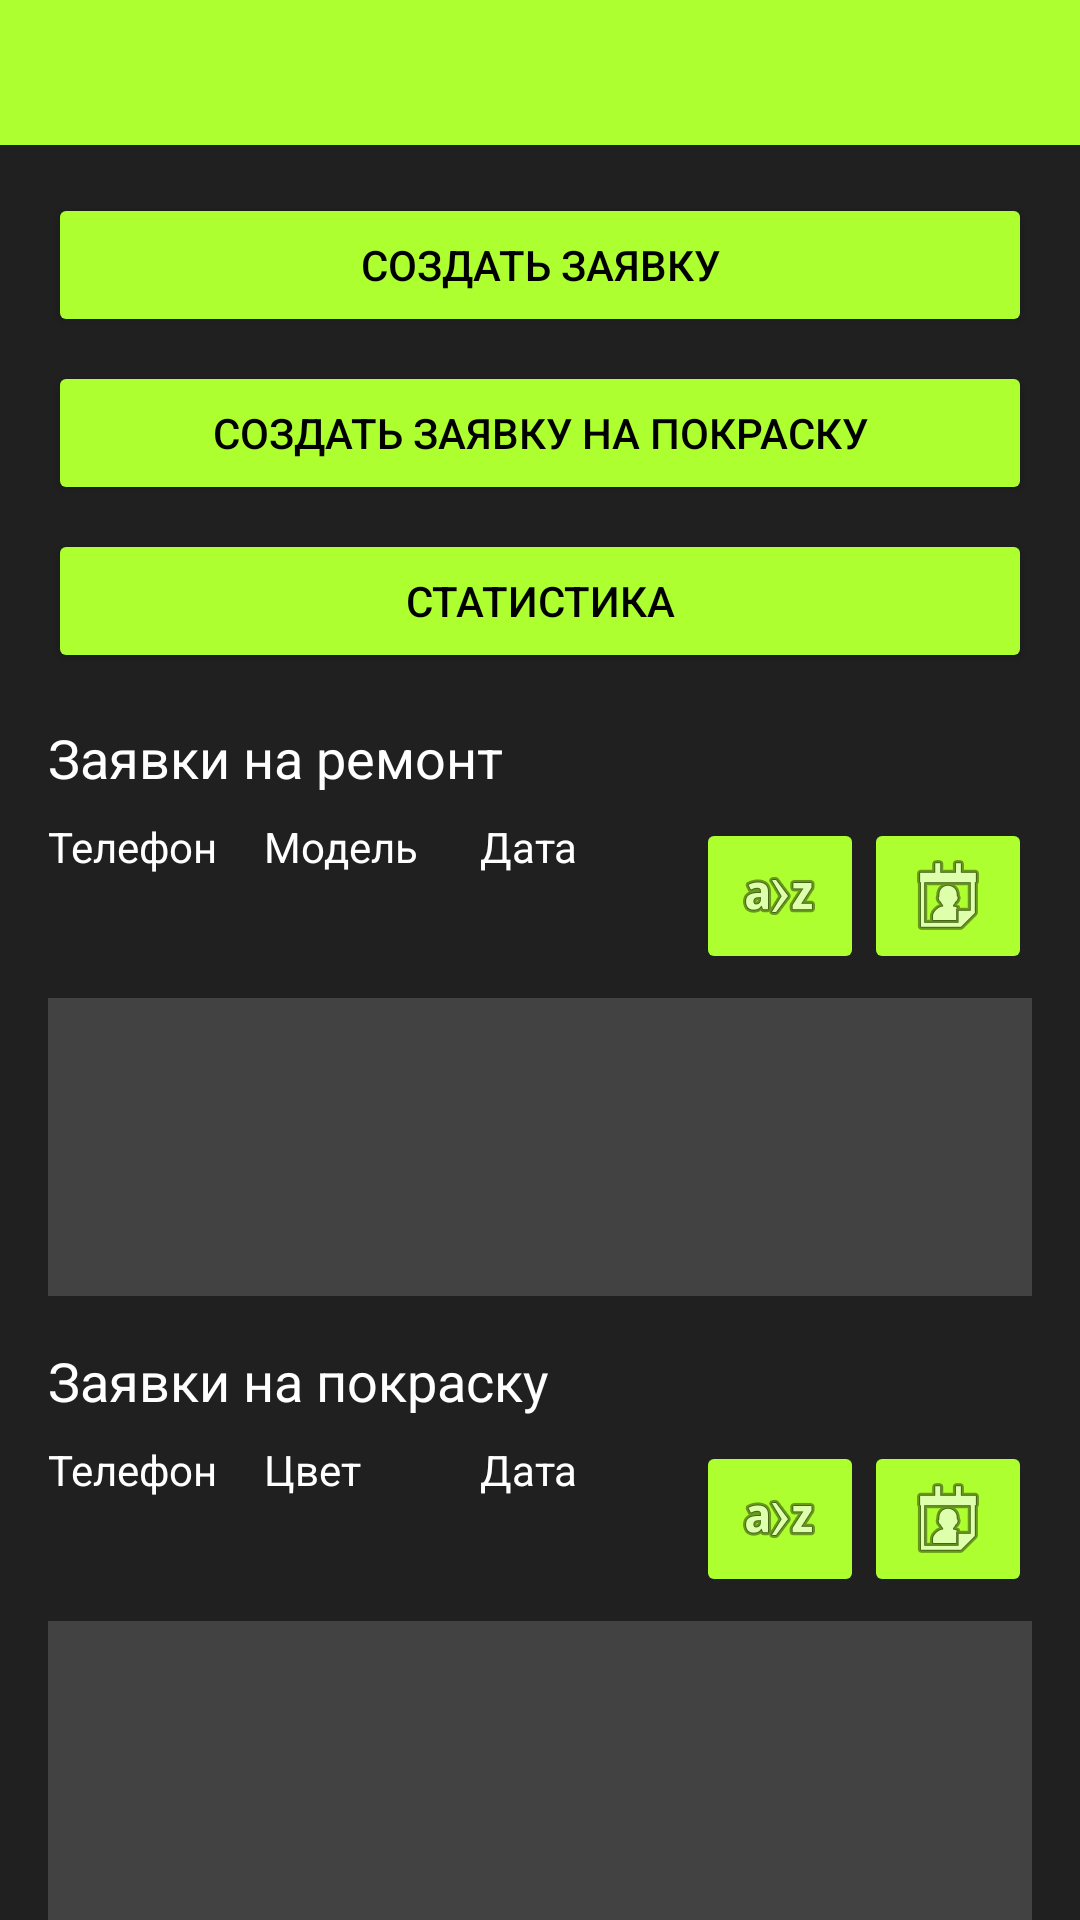

Icon click points for this 1080 × 1920 phone screenshot, format (x=x, y=y):
calendar: (x=948, y=896), (x=948, y=1519)
sort alphabetically: (x=780, y=896), (x=780, y=1519)
